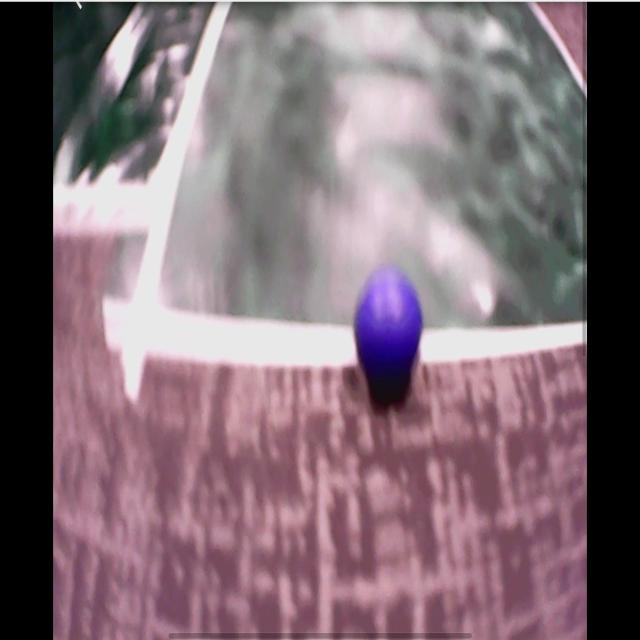ball: (356, 271, 424, 376)
